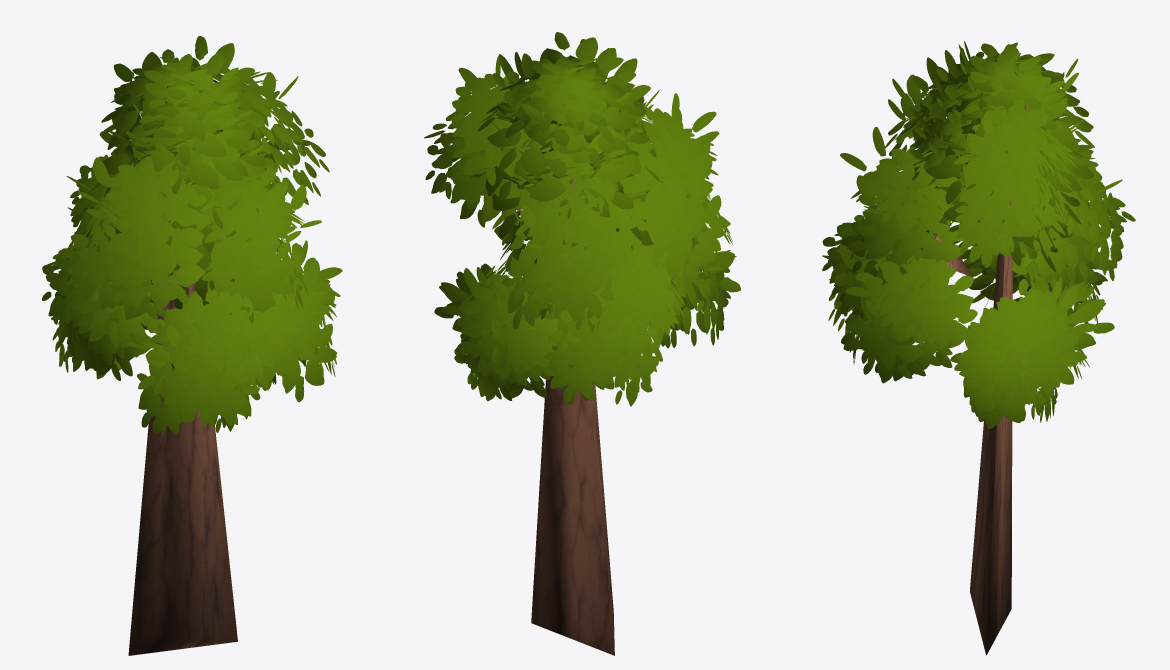
The model's file is oak_1.glb.
3 views of the same model, side by side, from view 1: azimuth 30°, elevation 25°; view 2: azimuth 150°, elevation 25°; view 3: azimuth 270°, elevation 25° (orthographic).
Parts seen in each view (by area): view 1: CommonTree_1; view 2: CommonTree_1; view 3: CommonTree_1.
Boxes of the visible parts, box(x1,y1,x2,y2) form: CommonTree_1: box(42, 36, 342, 655); CommonTree_1: box(424, 32, 740, 655); CommonTree_1: box(822, 41, 1135, 655).
Bounding box in the file's own units: 3.94 × 7.2 × 3.94.
Materials: 2 (2 with a texture image).
